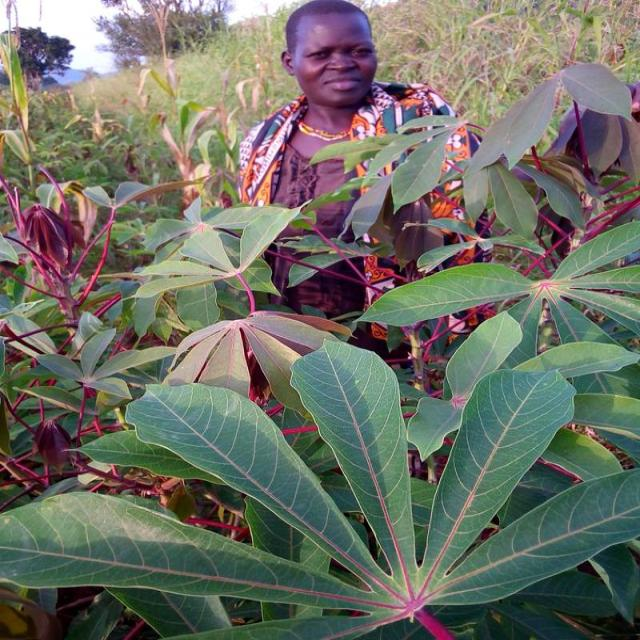cassava leaf: (125, 380, 396, 592), (419, 366, 578, 592), (289, 336, 419, 591)
